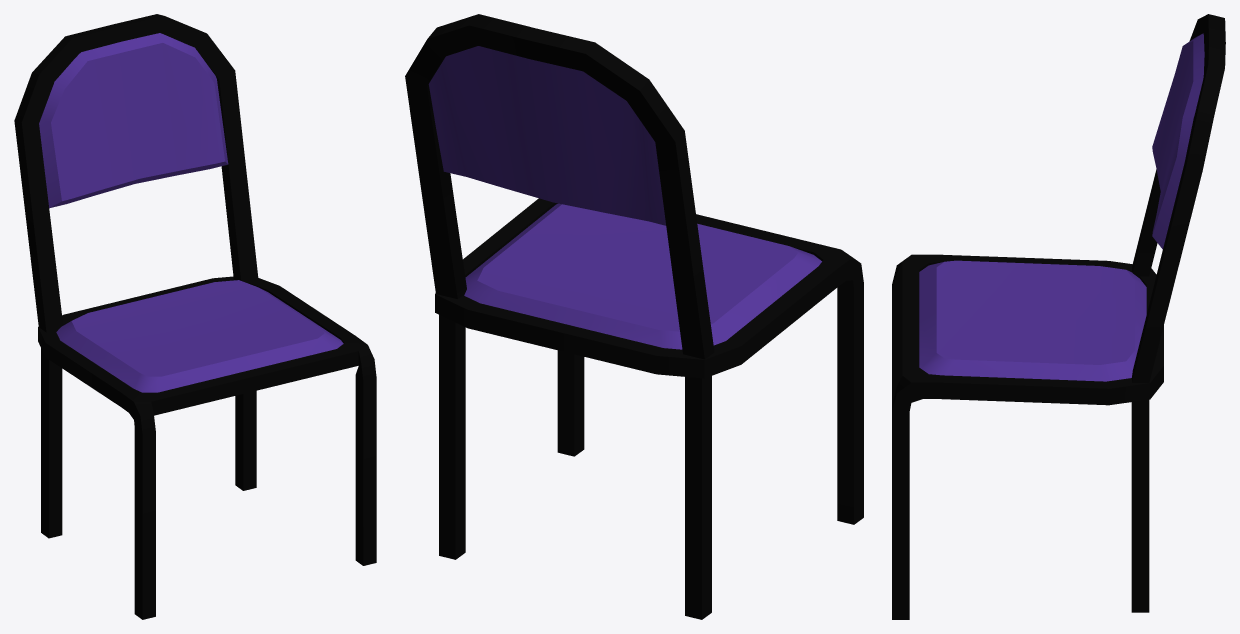
The model's file is s_chair1.fbx.
3 renders of one model, left to right at view 1: azimuth 30°, elevation 25°; view 2: azimuth 150°, elevation 25°; view 3: azimuth 270°, elevation 25°, orthographic. The views are drawn at different scales.
Parts seen in each view (by area): view 1: s_chair1; view 2: s_chair1; view 3: s_chair1.
Part boxes in pixels (x1=…): s_chair1: x1=14, y1=14, x2=376, y2=619; s_chair1: x1=405, y1=14, x2=863, y2=619; s_chair1: x1=892, y1=14, x2=1225, y2=619.
Bounding box in the file's own units: 33.47 × 63.02 × 36.88.
